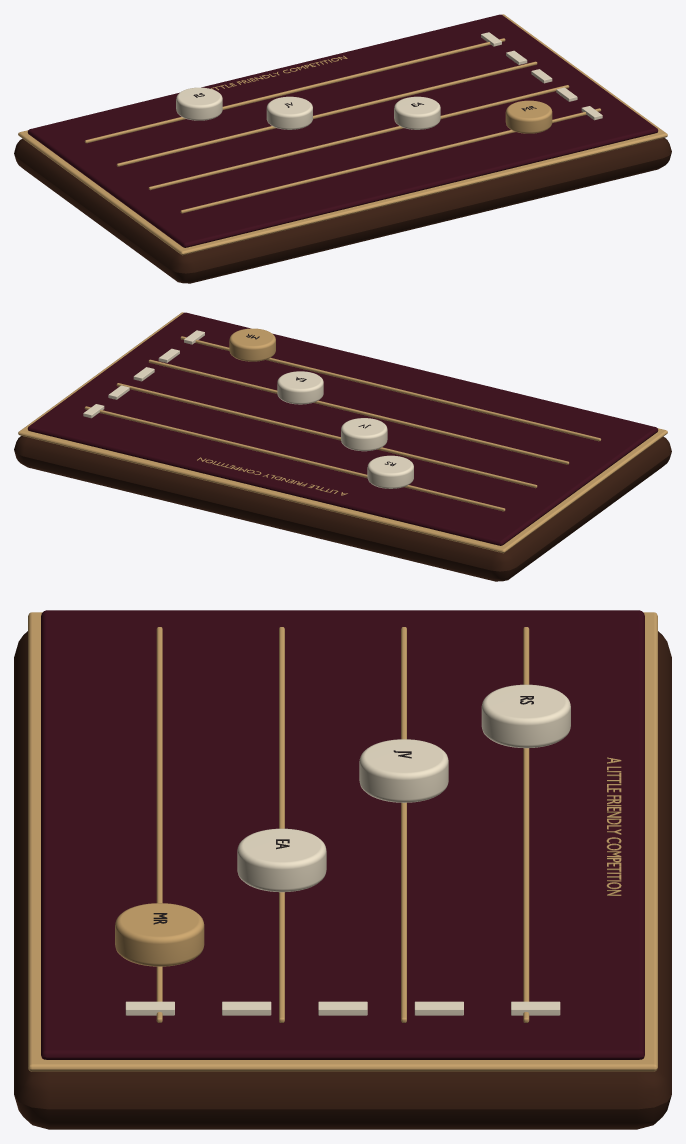
The model's file is race.glb.
3 views of the same model, one above another, from view 1: azimuth 30°, elevation 25°; view 2: azimuth 150°, elevation 25°; view 3: azimuth 270°, elevation 25° (orthographic). The views are drawn at different scales.
Parts seen in each view (by area): view 1: felt_inset.002, walnut_base.002, brass_inlay.002, rail_2, rail_1, rail_3, rail_0, racer_0, racer_3, racer_2, racer_1; view 2: felt_inset.002, walnut_base.002, brass_inlay.002, rail_1, rail_2, rail_0, rail_3, racer_1, racer_3, racer_2, racer_0, race_title; view 3: felt_inset.002, walnut_base.002, brass_inlay.002, racer_2, racer_1, racer_3, racer_0, rail_0, rail_3, rail_2, rail_1, race_title.
Boxes of the visible parts, x1,y1,x2,y2 form: felt_inset.002: [27, 14, 658, 247]; walnut_base.002: [14, 138, 671, 283]; brass_inlay.002: [18, 14, 667, 255]; rail_2: [116, 61, 537, 166]; rail_1: [148, 85, 569, 190]; rail_3: [84, 38, 505, 143]; rail_0: [180, 108, 601, 213]; racer_0: [505, 100, 552, 133]; racer_3: [176, 87, 222, 120]; racer_2: [266, 96, 312, 129]; racer_1: [394, 96, 440, 129]; felt_inset.002: [27, 312, 658, 545]; walnut_base.002: [14, 436, 671, 581]; brass_inlay.002: [18, 312, 667, 553]; rail_1: [148, 359, 569, 464]; rail_2: [116, 383, 537, 488]; rail_0: [180, 336, 601, 441]; rail_3: [84, 406, 505, 511]; racer_1: [277, 371, 323, 404]; racer_3: [367, 455, 413, 488]; racer_2: [341, 418, 387, 451]; racer_0: [229, 328, 275, 361]; race_title: [197, 457, 347, 495]; felt_inset.002: [41, 610, 644, 1059]; walnut_base.002: [14, 631, 671, 1129]; brass_inlay.002: [28, 612, 657, 1071]; racer_2: [359, 739, 448, 802]; racer_1: [237, 828, 326, 892]; racer_3: [481, 684, 570, 748]; racer_0: [115, 903, 204, 966]; rail_0: [156, 627, 162, 1022]; rail_3: [523, 627, 529, 1022]; rail_2: [401, 627, 406, 1022]; rail_1: [279, 627, 284, 1022]; race_title: [606, 757, 621, 895].
Bounding box in the file's own units: 4.7 × 0.5585 × 2.8.
